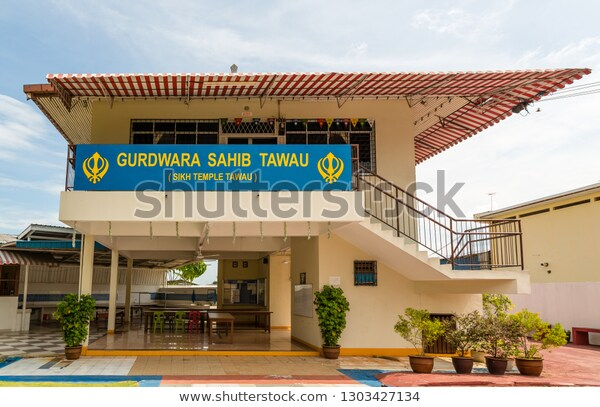Gurdwara: (36, 65, 570, 341)
